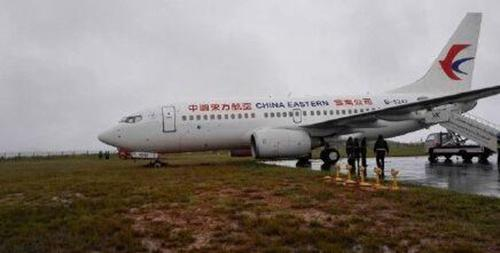airplane: (99, 12, 500, 163)
